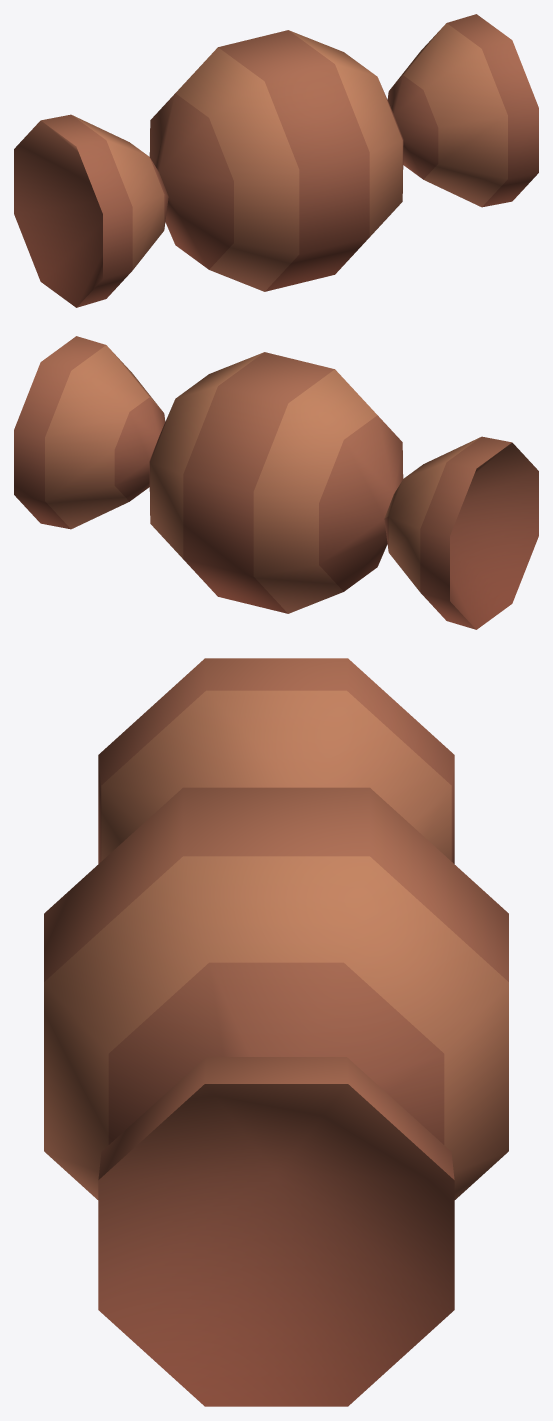
Rendered from candy_brown_C.gltf.
3 renders of one model, top to bottom at view 1: azimuth 30°, elevation 25°; view 2: azimuth 150°, elevation 25°; view 3: azimuth 270°, elevation 25°, orthographic. The views are drawn at different scales.
Parts seen in each view (by area): view 1: candy_brown_C; view 2: candy_brown_C; view 3: candy_brown_C.
Part boxes in pixels (x1,y1,x2,y2): candy_brown_C: (14,14,538,307); candy_brown_C: (14,336,538,629); candy_brown_C: (44,658,508,1406).
Bounding box in the file's own units: 0.65 × 0.3 × 0.3.
Materials: 1 (1 with a texture image).
